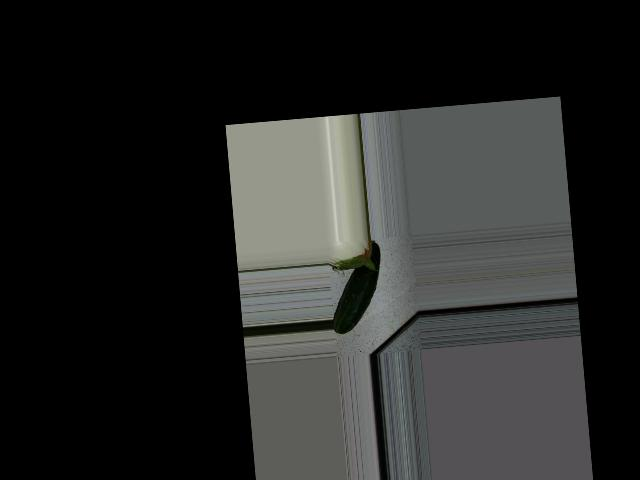cucumber: (326, 240, 386, 334)
